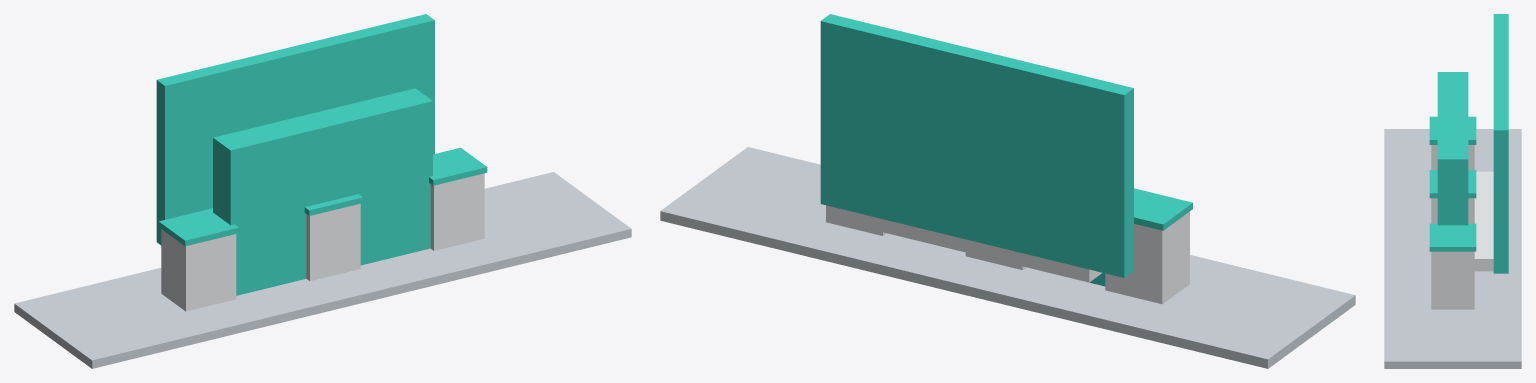
3 renders of one model, left to right at view 1: azimuth 30°, elevation 25°; view 2: azimuth 150°, elevation 25°; view 3: azimuth 270°, elevation 25°, orthographic. The views are drawn at different scales.
Visible parts, largest first — view 1: Exhibition Booth Concept; view 2: Exhibition Booth Concept; view 3: Exhibition Booth Concept.
Boxes of the visible parts, x1,y1,x2,y2 form: Exhibition Booth Concept: (14,14,631,368); Exhibition Booth Concept: (660,14,1355,368); Exhibition Booth Concept: (1384,14,1521,368).
Bounding box in the file's own units: 8 × 2.9 × 2.
